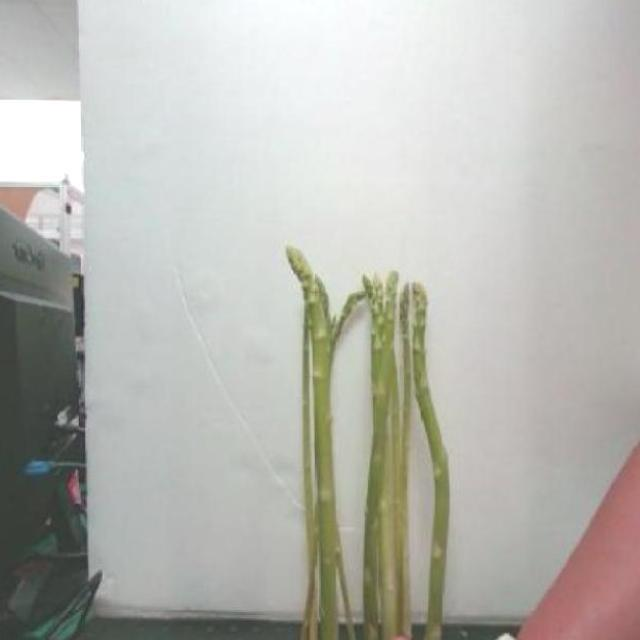aspargus: (280, 237, 346, 640), (404, 271, 455, 640)
